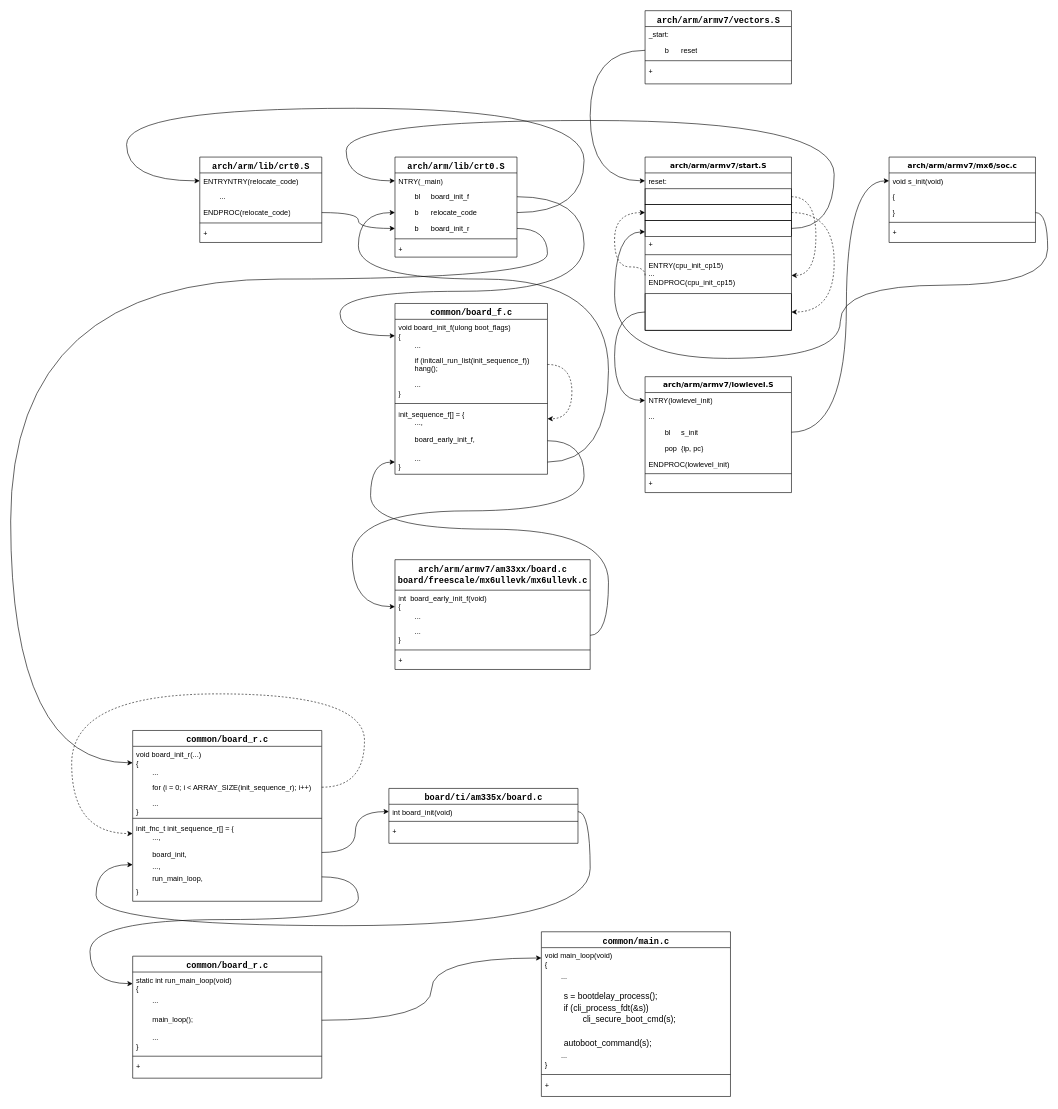
Image size: 1058x1109. Some labels were removed from this diagram. The shapes that lost their labels are listed below. From the top down, each one's centre as x and y in pixels, then its label:
At (717,196): "bl cpu_init_cp15".
At (717,212): "bl cpu_init_crit".
At (717,228): "bl _main".
At (717,311): "ENTRY(cpu_init_crit) b lowlevel_init ENDPROC(cpu_init_crit)".
